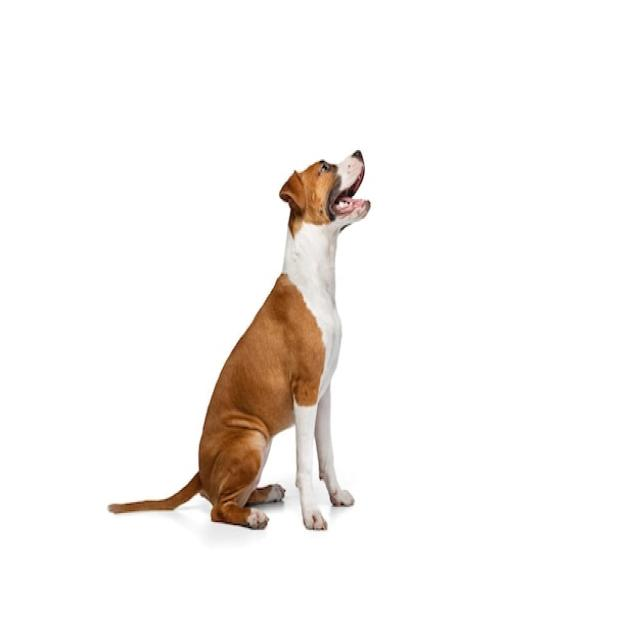Dog: (108, 148, 372, 531)
